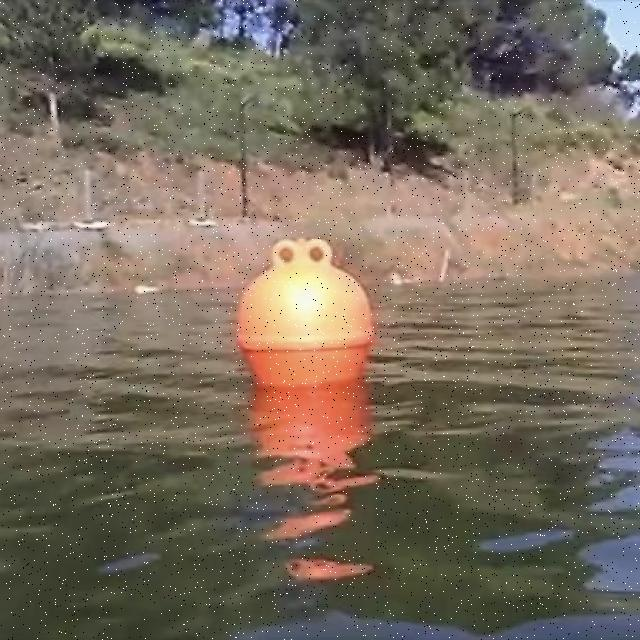buoy: (236, 242, 378, 378)
